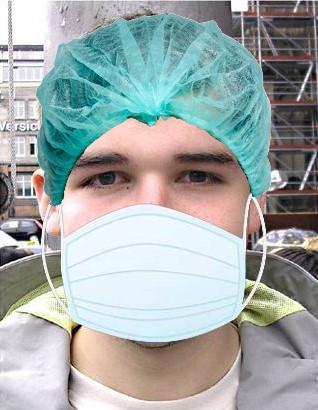with_mask_and_cap: (36, 15, 274, 342)
